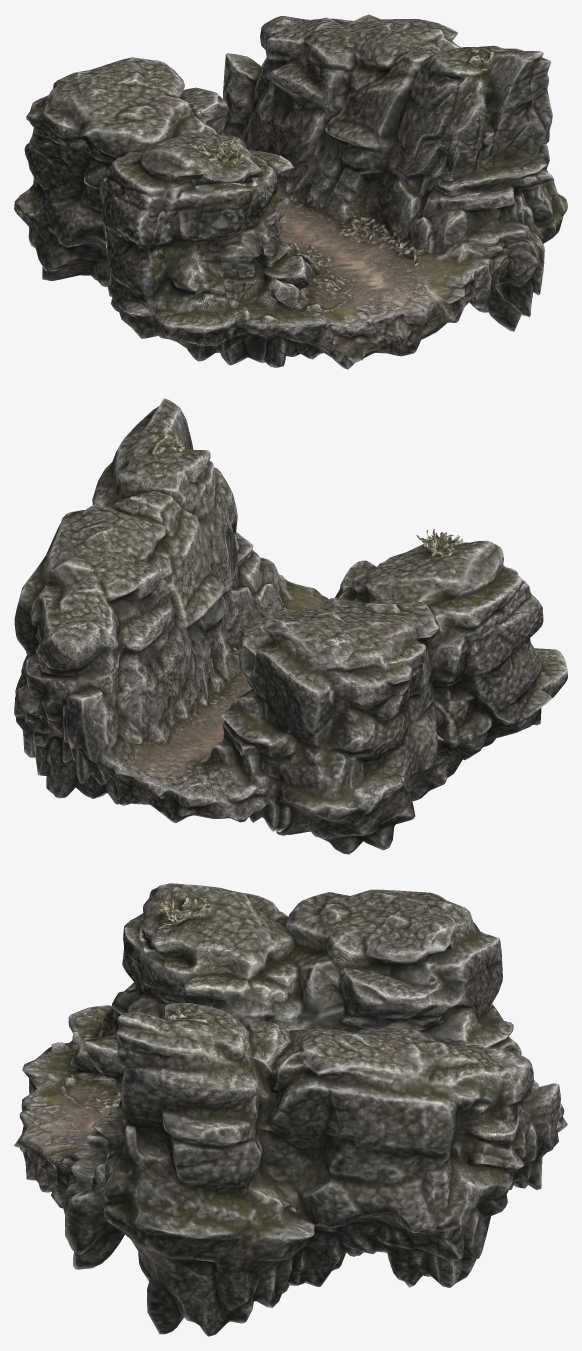
3 renders of one model, top to bottom at view 1: azimuth 30°, elevation 25°; view 2: azimuth 150°, elevation 25°; view 3: azimuth 270°, elevation 25°, orthographic. The views are drawn at different scales.
Bounding box in the file's own units: 16 × 10.15 × 15.79.
Materials: 1 (1 with a texture image).
